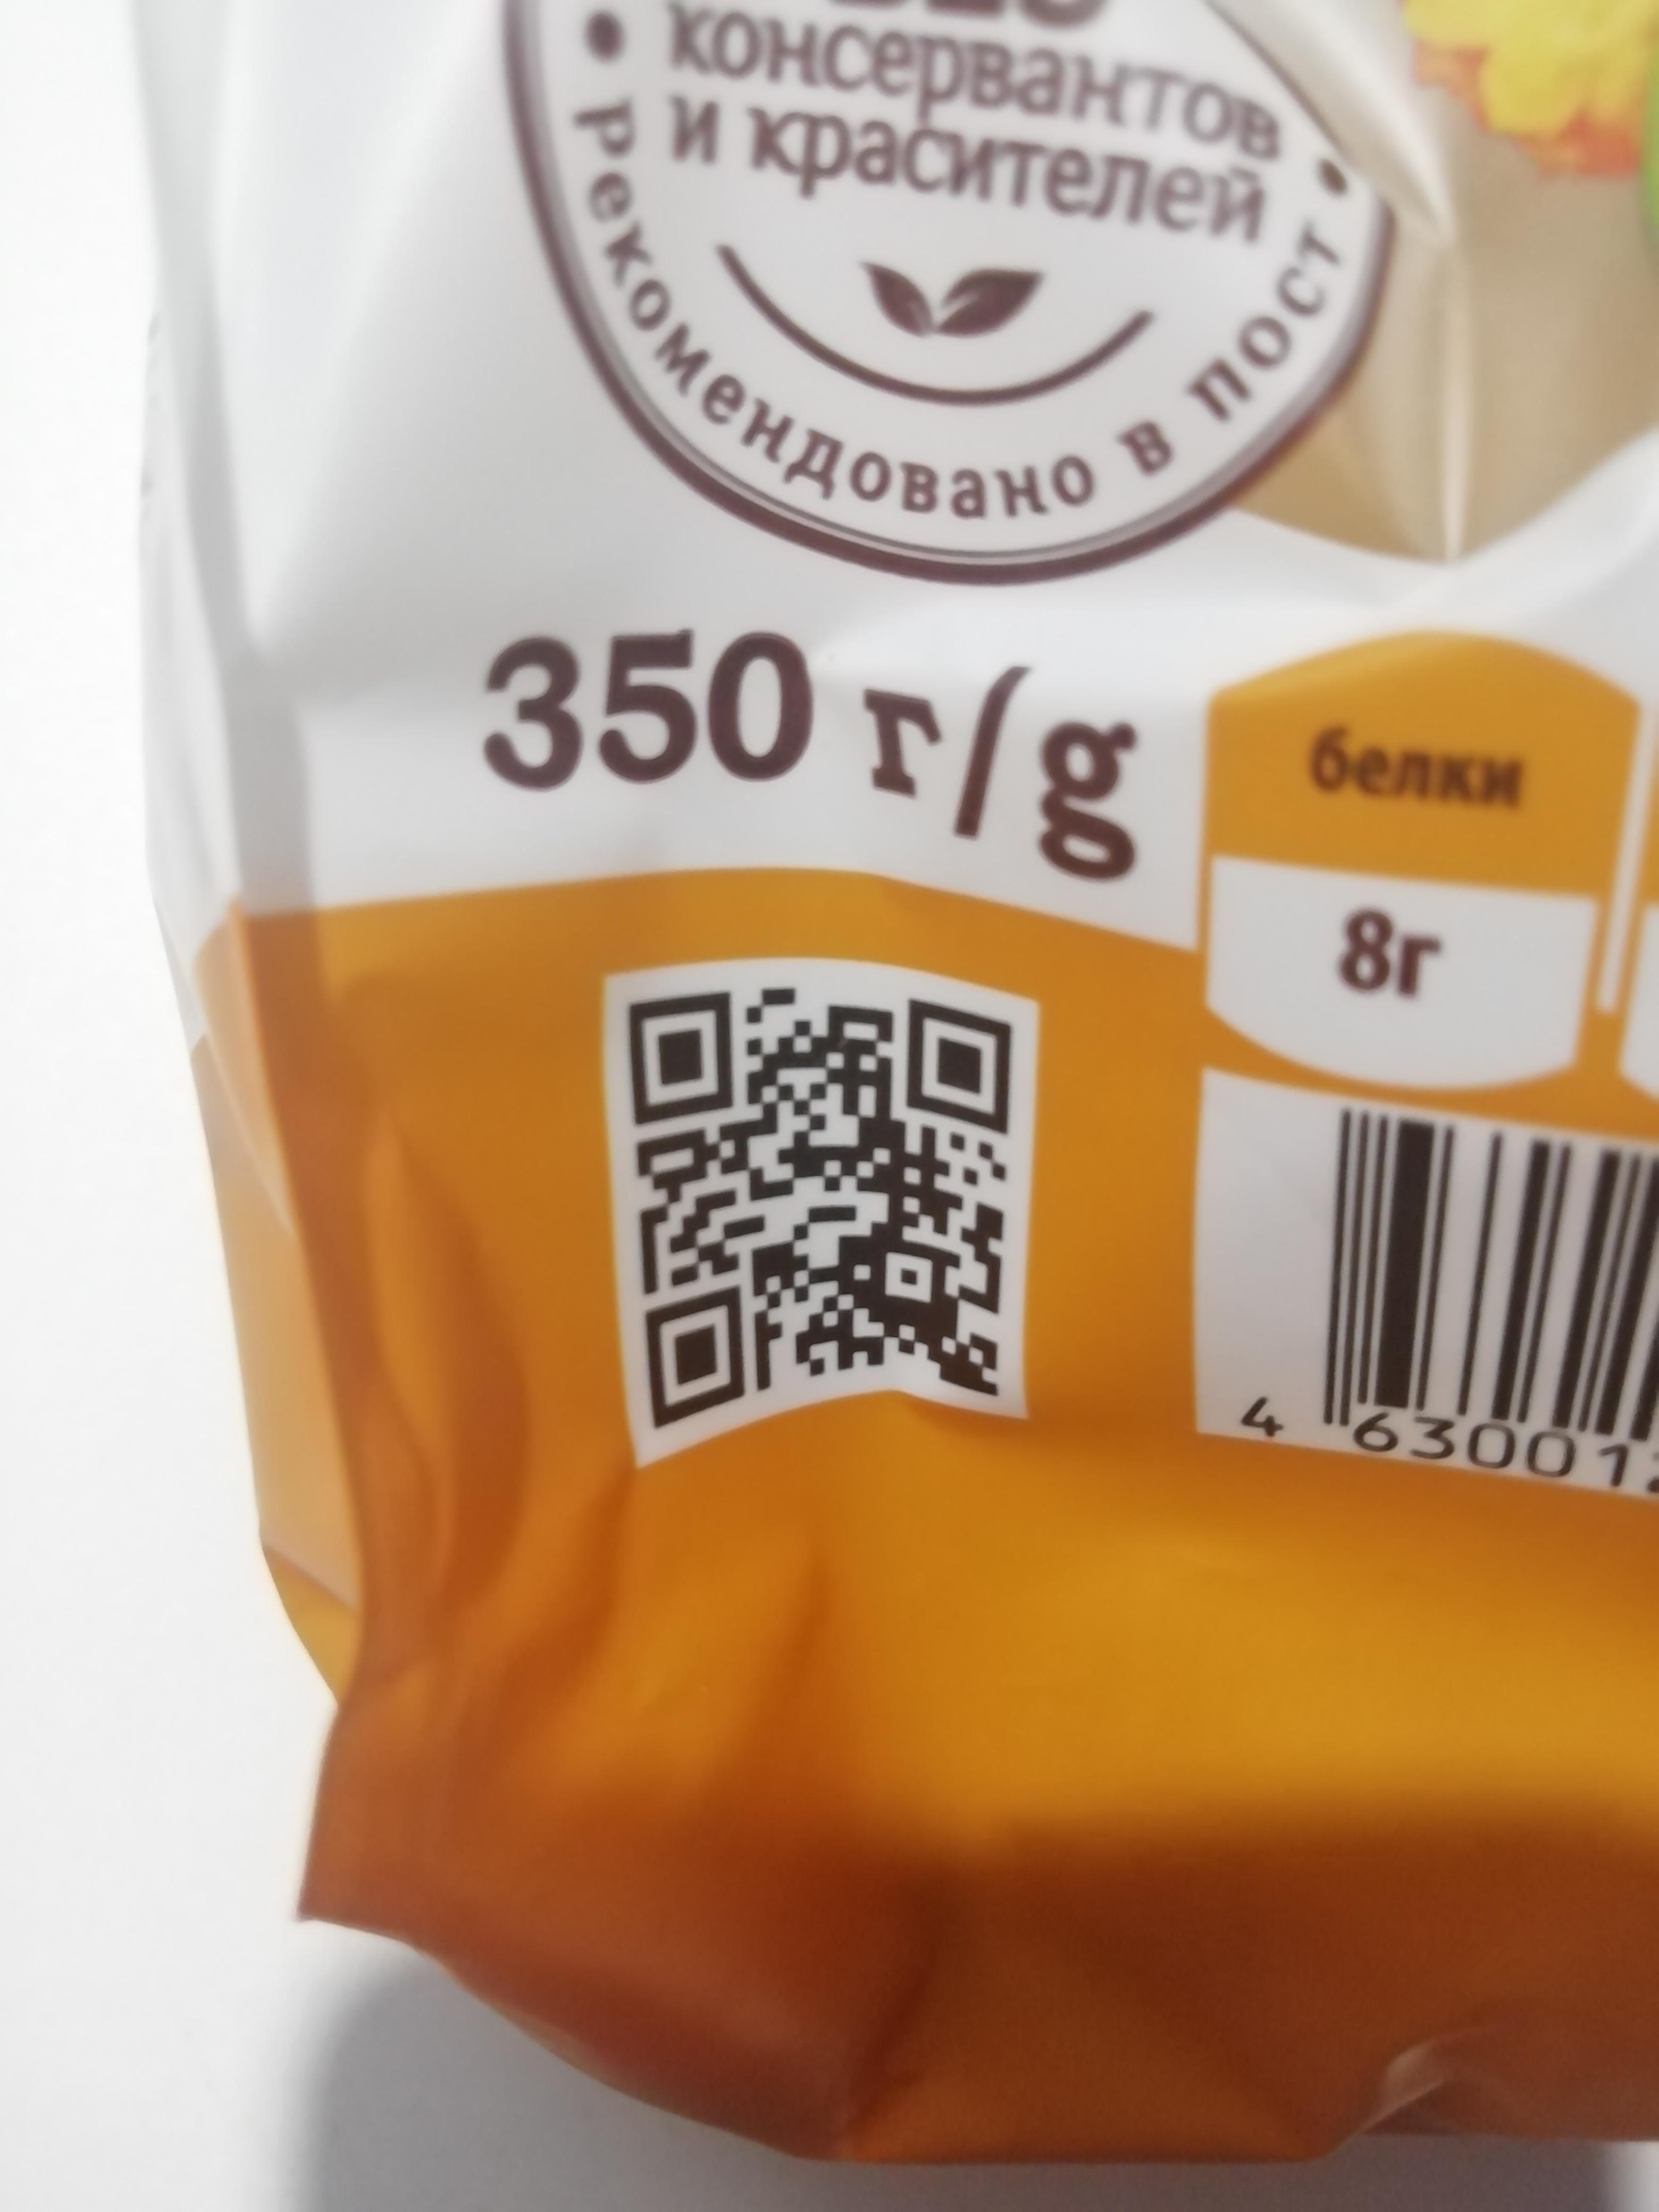qrcode: (627, 982, 1016, 1433)
